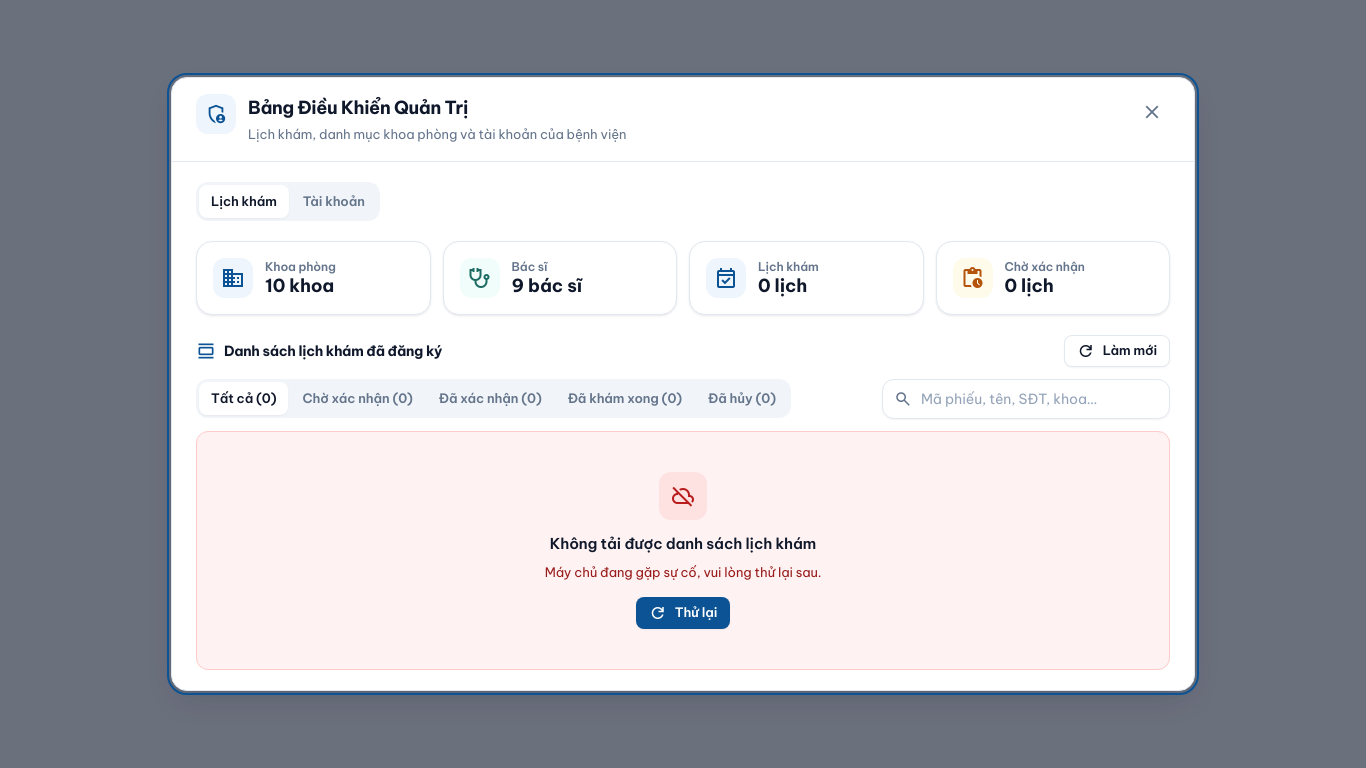
Scenario: AdminPanelModal › shows a Vietnamese error with a retry button instead of failing silently
The width and height of the screenshot is (1366, 768).
Expected: the message reads "Máy chủ đang gặp sự cố, vui lòng thử lại sau.", 545,564 -> 821,580
Click the button "Thử lại".
click(683, 613)  # box 636,597 -> 730,629
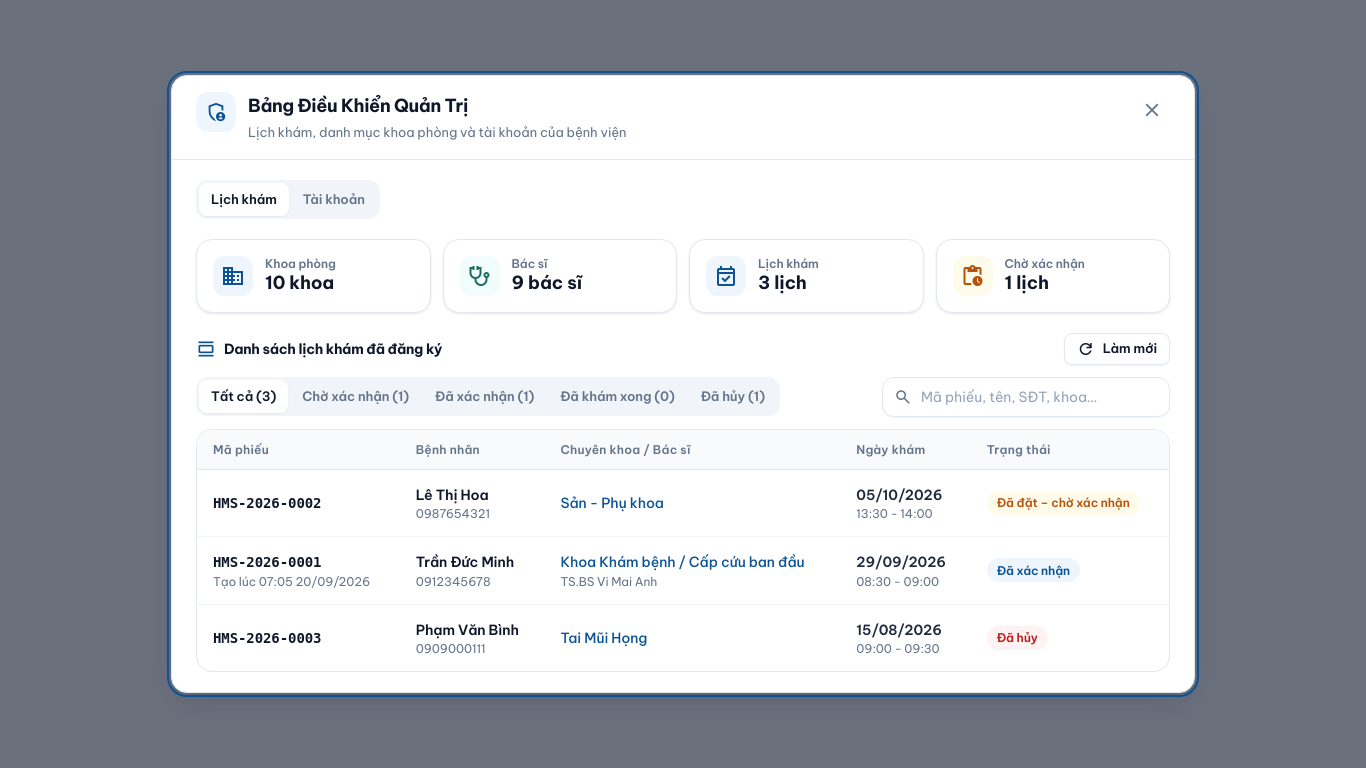
Now the table is shown, box 197,430 -> 1169,671
